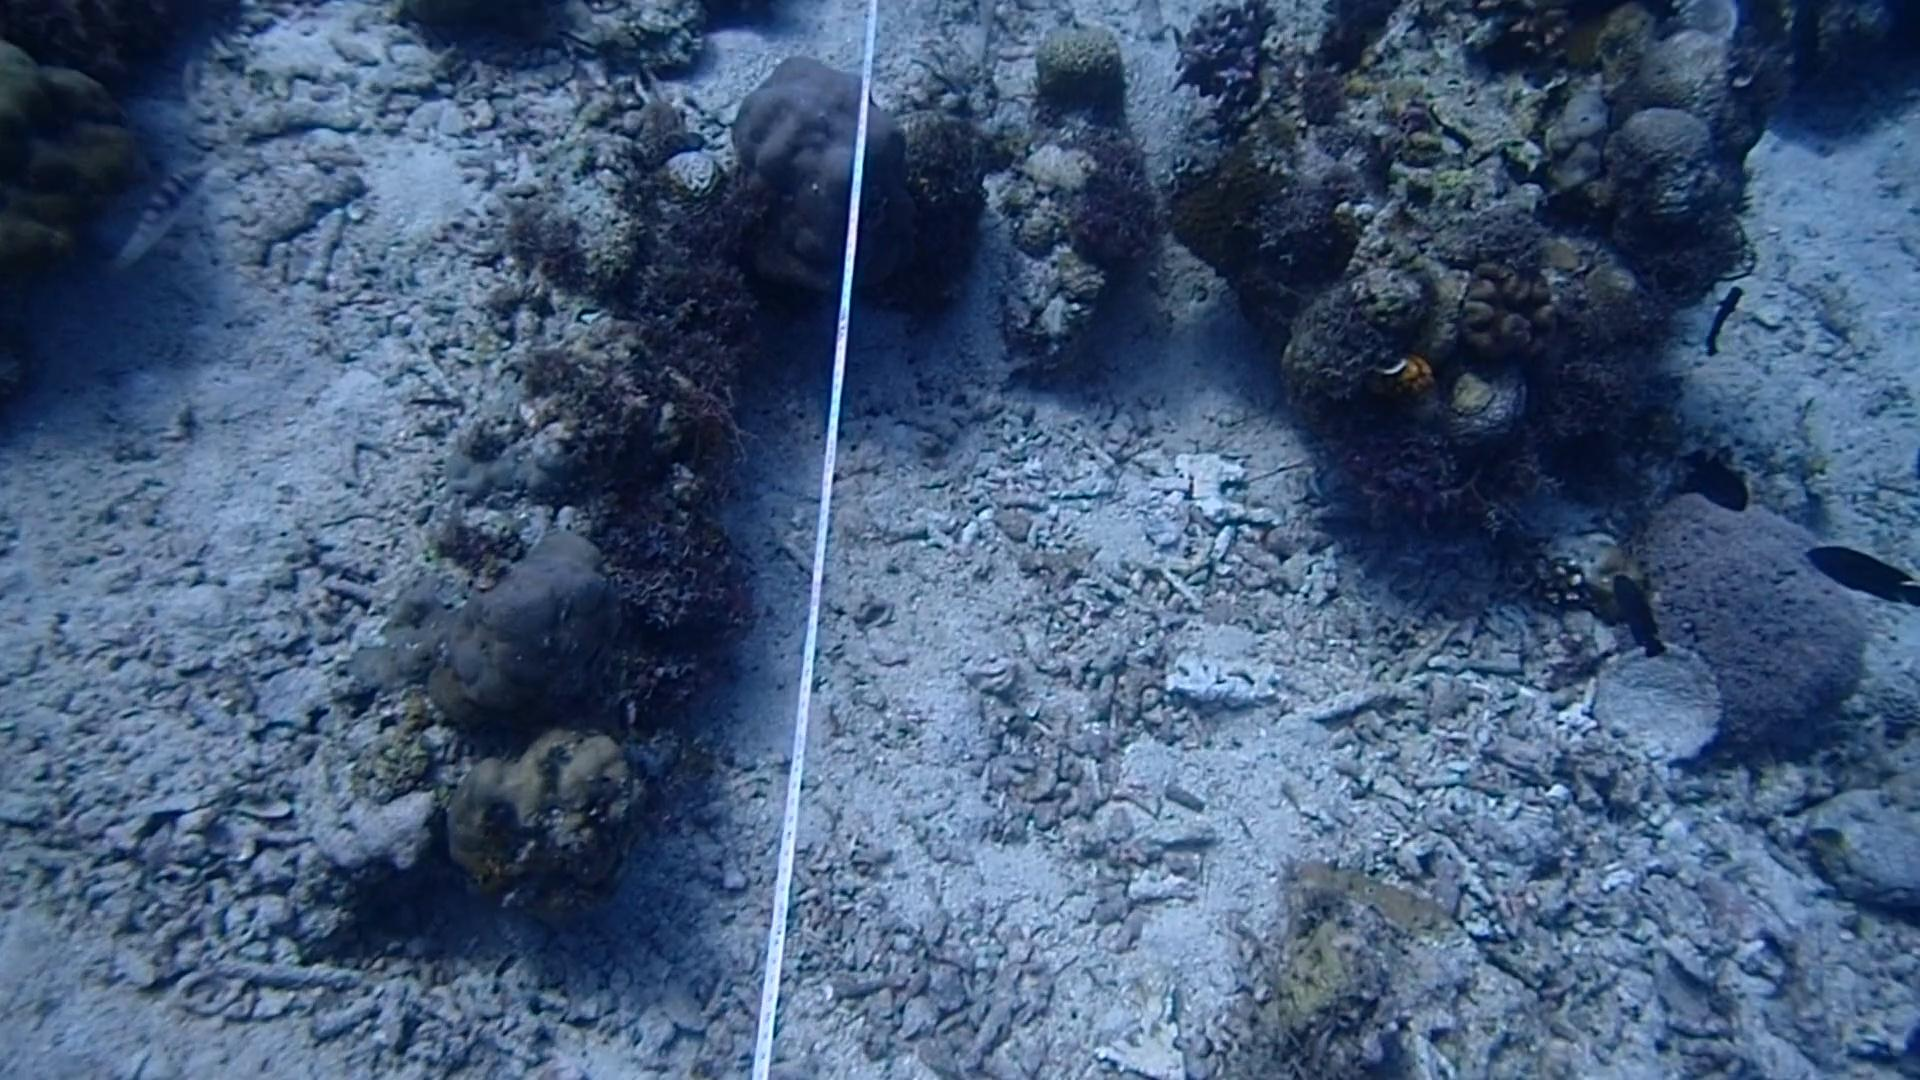Dark Fish: (1796, 531, 1916, 620), (1593, 560, 1681, 669), (1660, 433, 1756, 518), (1692, 274, 1758, 361), (1772, 0, 1834, 90)
Light Fish w Back Stripes: (108, 150, 222, 277)
